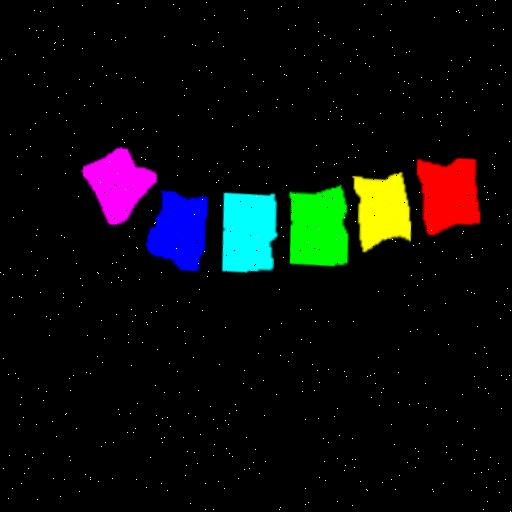L1: (413, 161, 476, 238)
L2: (350, 176, 407, 253)
L3: (285, 190, 342, 268)
L4: (217, 194, 273, 273)
L5: (143, 192, 204, 272)
S1: (79, 149, 153, 225)
